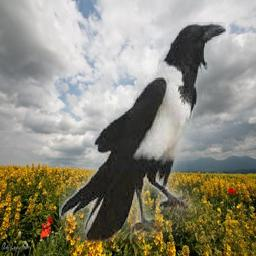Crow: (60, 22, 227, 242)
